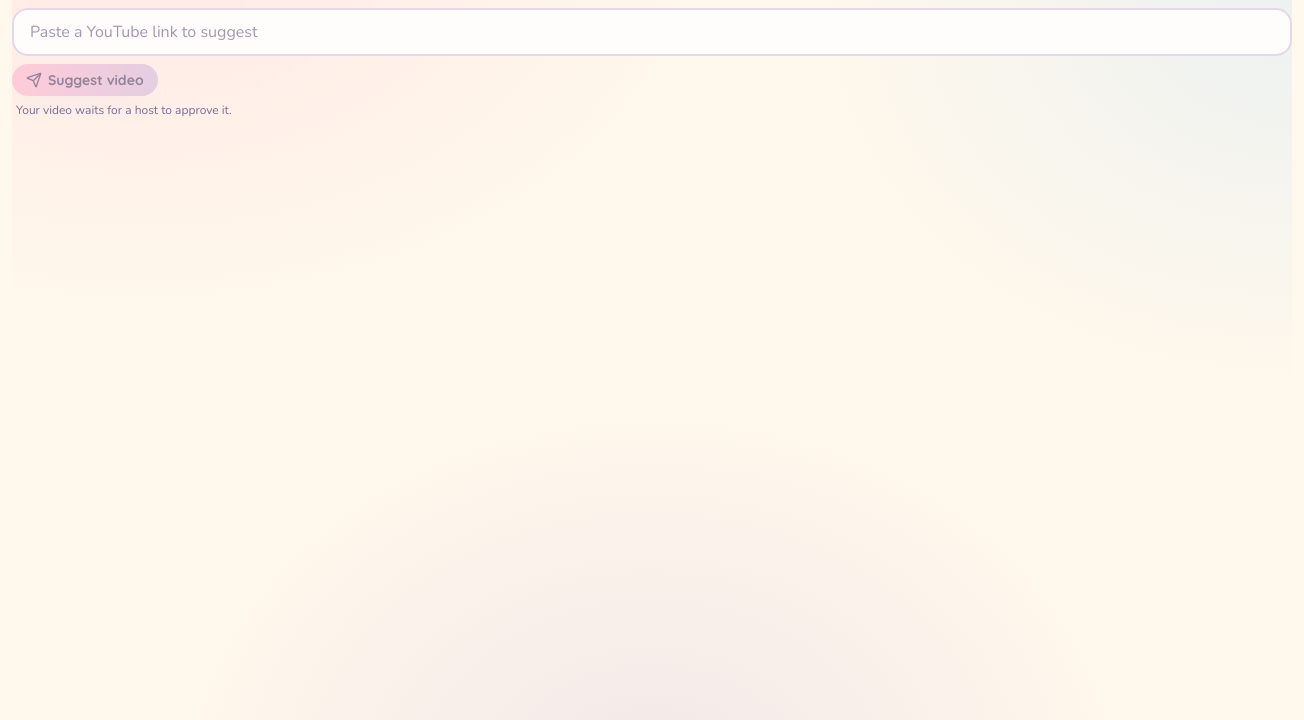
Test case: Add video box › confirms a suggestion with a toast
In the field: coordinates (652, 32) left=12, top=8, right=1292, bottom=56, type "https://youtu.be/dQw4w9WgXcQ"
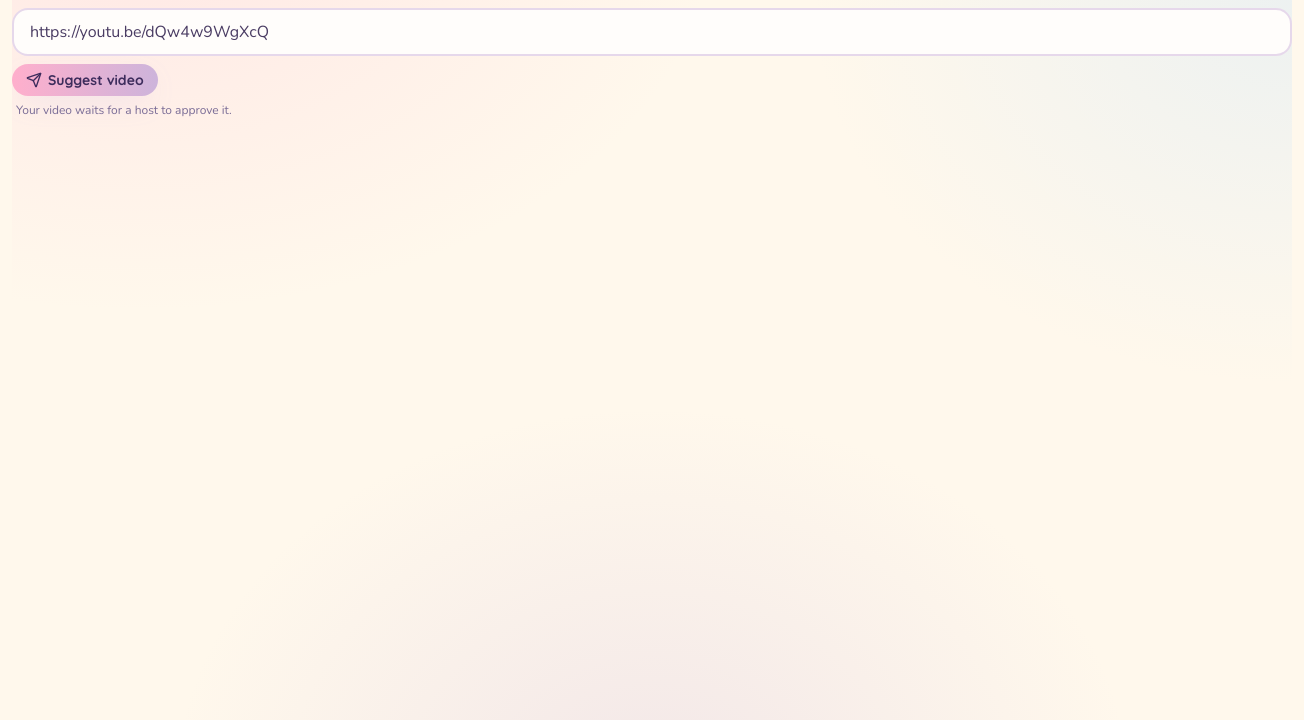
Click the button "Suggest video": coordinates (85, 80) left=12, top=64, right=158, bottom=96
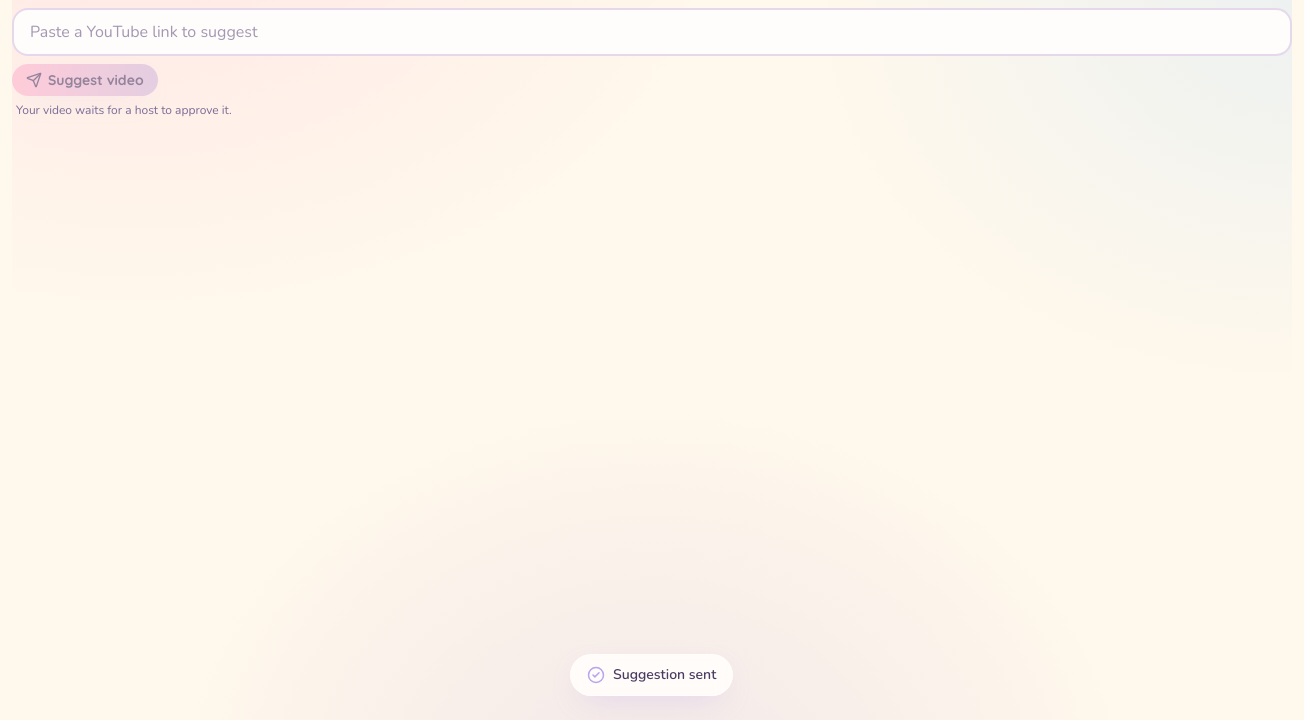
Expected: the text "Suggestion sent" is shown, left=570, top=654, right=734, bottom=696
